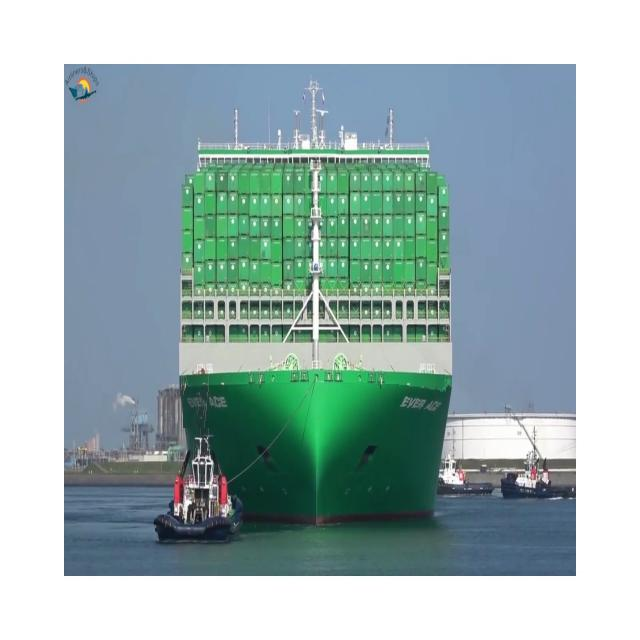OCR: (394, 376, 447, 421), (183, 386, 235, 428)
